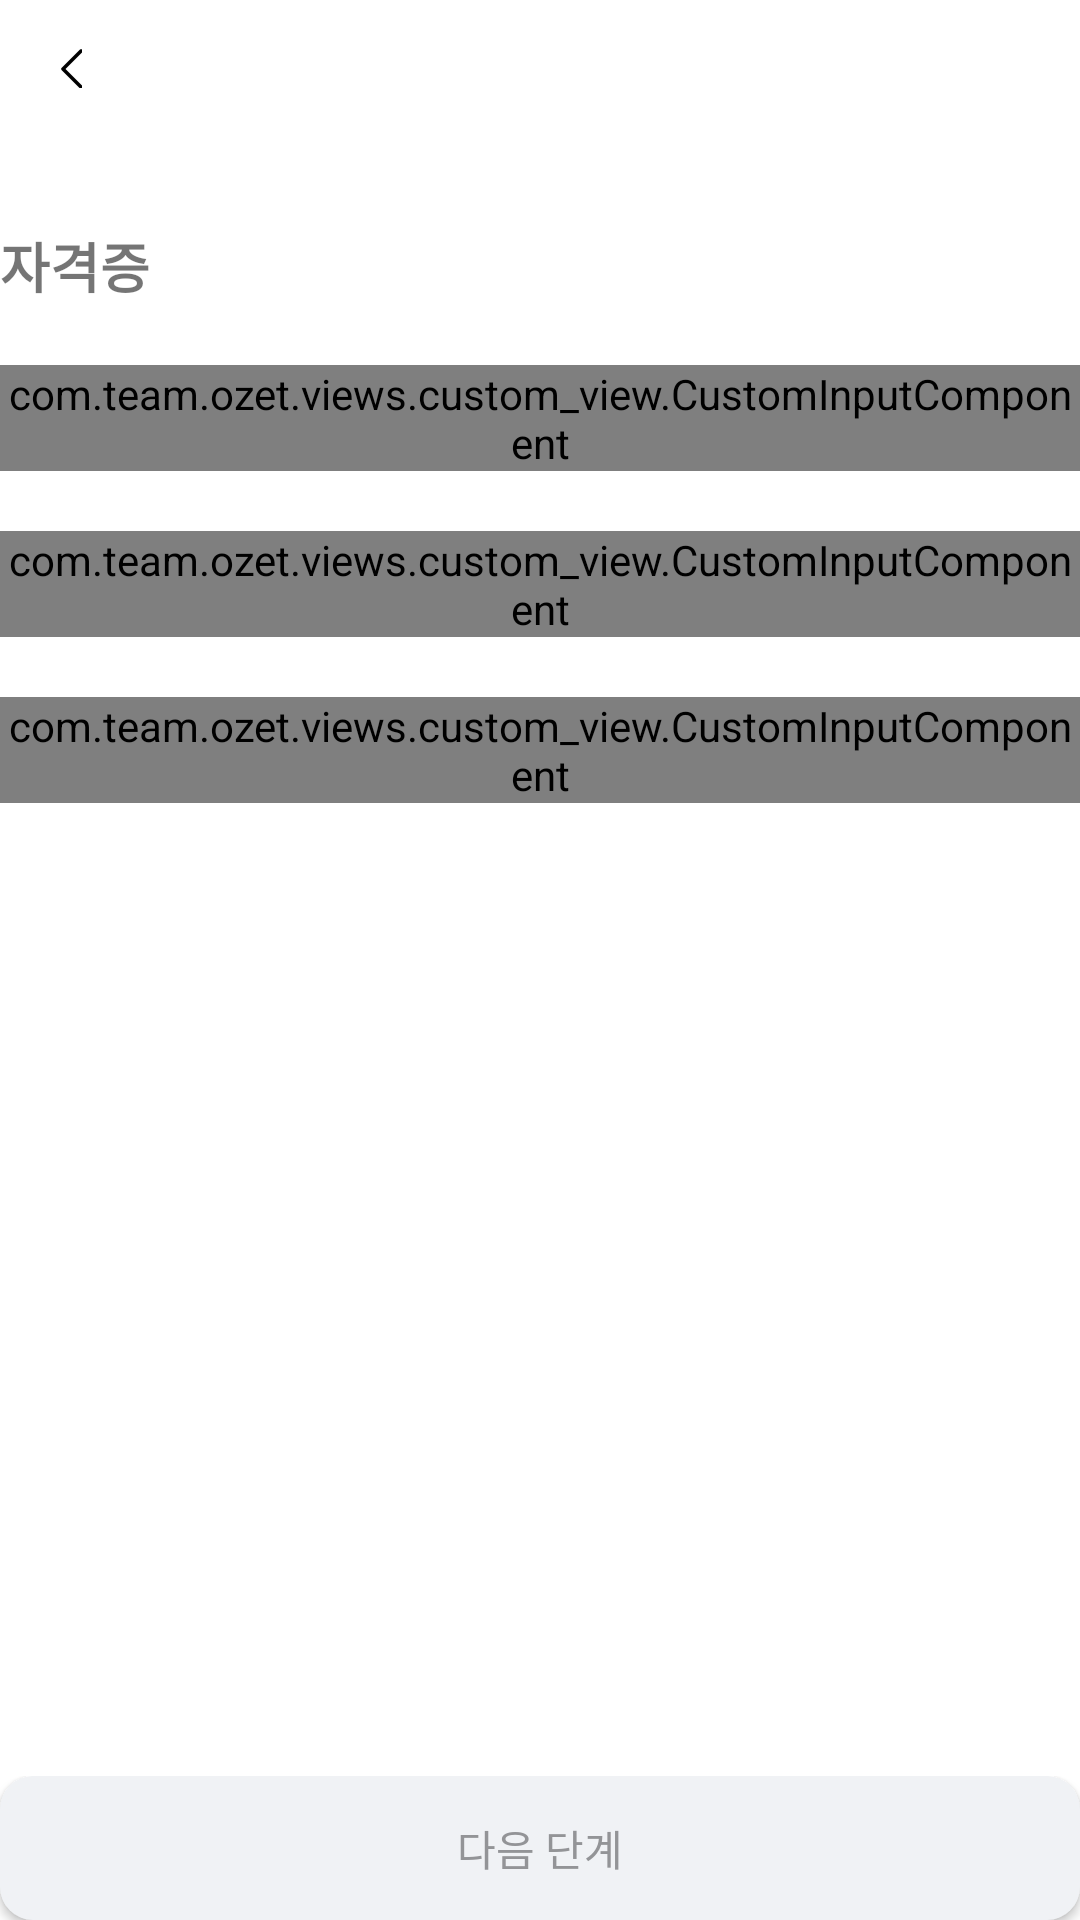

Named icons in this screenshot (1080×1920) and their bounding boxes, rect(x1, y1, x2, y2):
back: rect(61, 49, 82, 88)
